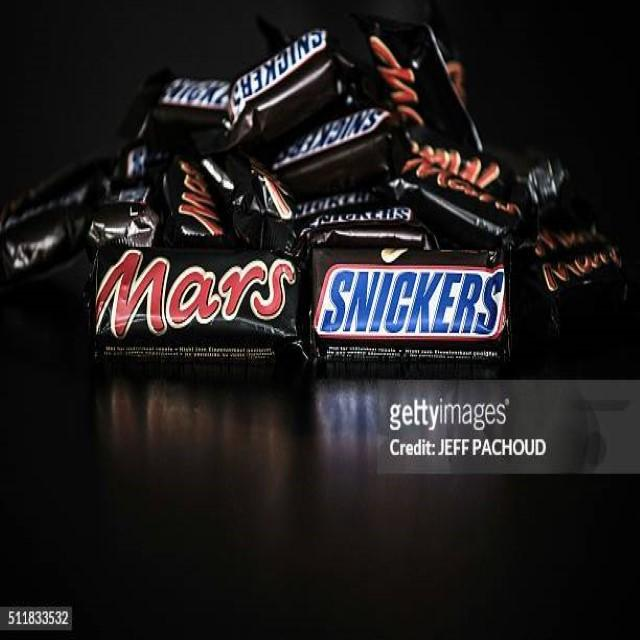mars_chocolate: (70, 230, 285, 352)
snickers_chocolate: (310, 233, 540, 382)
